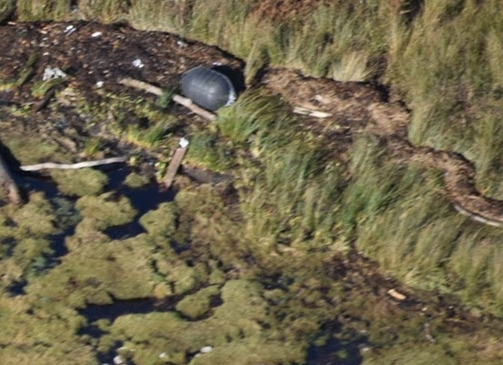straight_bar: (120, 73, 220, 121), (13, 151, 128, 178), (157, 142, 192, 192)
white_in_green: (158, 41, 258, 134), (376, 269, 425, 314)
